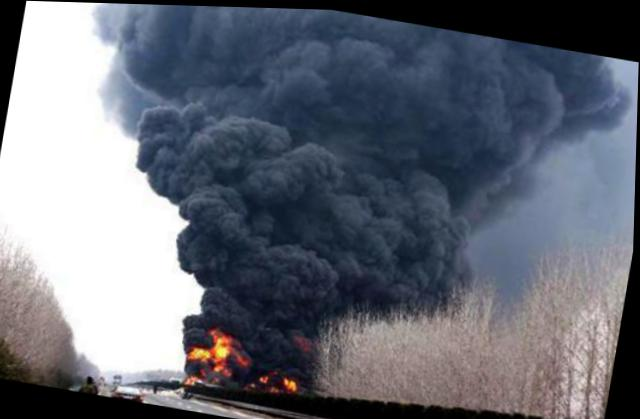fire: (215, 331, 234, 370), (192, 344, 216, 359), (288, 373, 301, 391)
